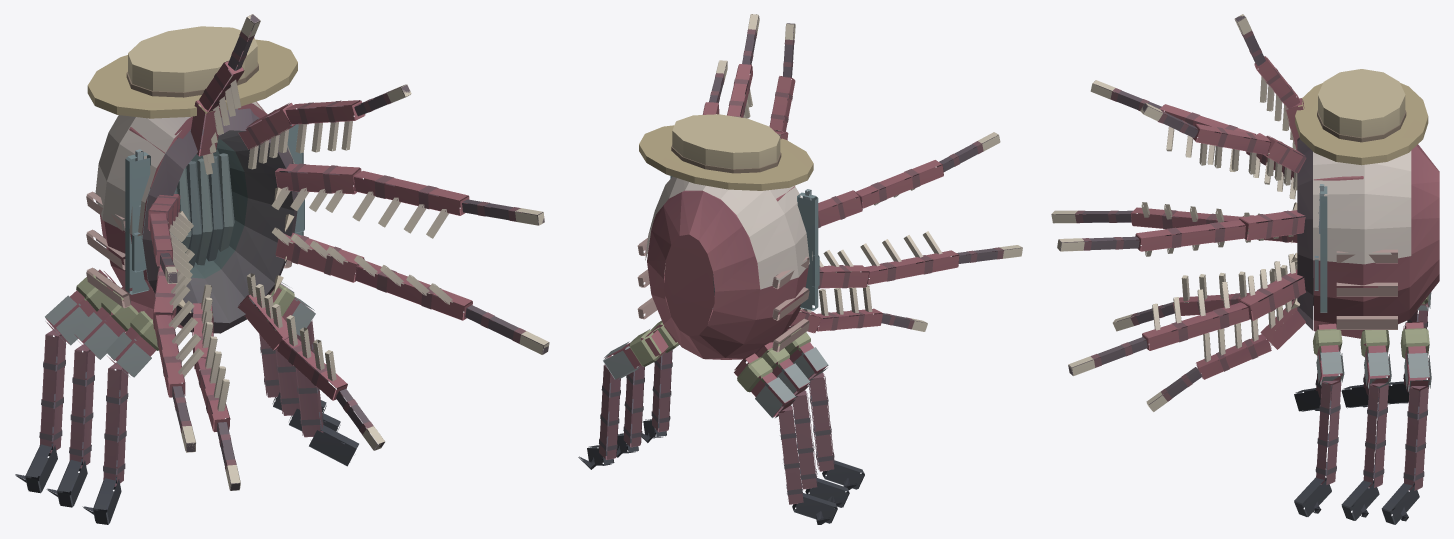
Rendered from AdaptedVisceraFarmer.glb.
The picture shows the model from 3 angles, left to right: view 1: azimuth 30°, elevation 25°; view 2: azimuth 150°, elevation 25°; view 3: azimuth 270°, elevation 25°; orthographic projection. The views are drawn at different scales.
Parts seen in each view (by area): view 1: Body, LegR, ArmR, ArmL, LegL; view 2: Body, LegR, LegL, ArmR, ArmL; view 3: Body, LegL, ArmL, LegR, ArmR.
Boxes of the visible parts, x1,y1,x2,y2 form: Body: [46, 14, 549, 507]; LegR: [15, 269, 116, 493]; ArmR: [82, 307, 158, 524]; ArmL: [269, 284, 358, 466]; LegL: [259, 334, 326, 415]; Body: [616, 14, 1022, 508]; LegR: [734, 353, 837, 524]; LegL: [578, 329, 668, 469]; ArmR: [779, 324, 864, 490]; ArmL: [641, 344, 679, 442]; Body: [1051, 14, 1439, 520]; LegL: [1381, 321, 1431, 524]; ArmL: [1294, 323, 1344, 516]; LegR: [1387, 292, 1431, 404]; ArmR: [1294, 373, 1331, 411].
Bounding box in the file's own units: 8.02 × 10.39 × 8.25.
